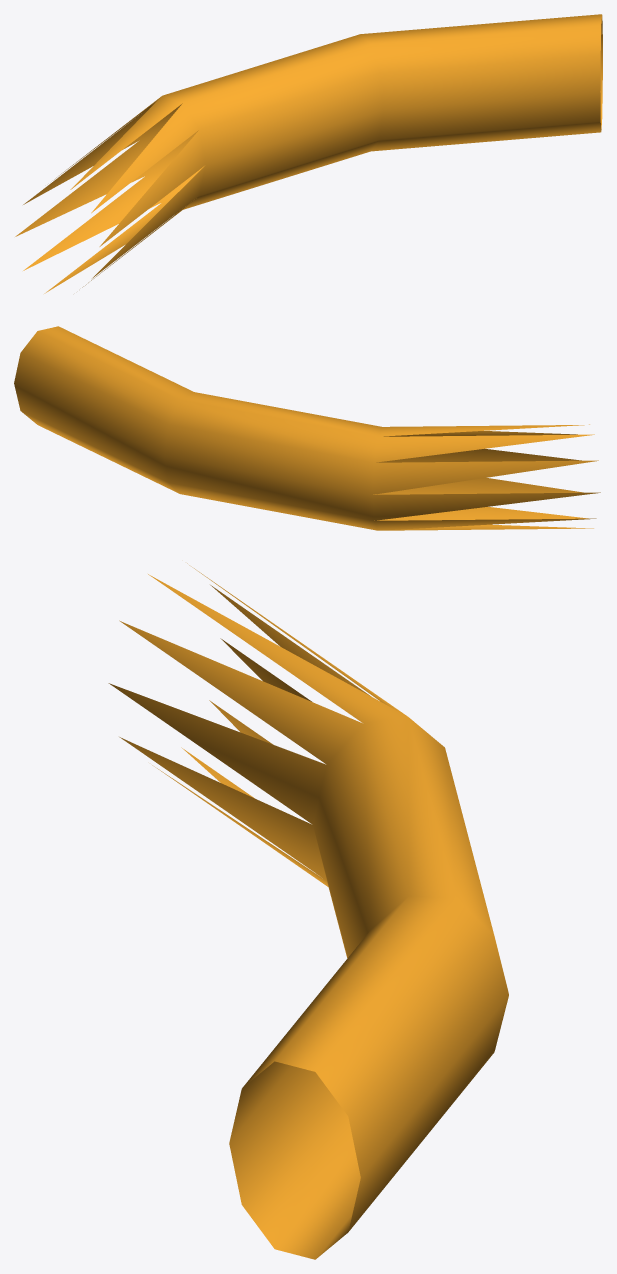
Rendered from TorusChunk_7_4.obj.
The picture shows the model from 3 angles, top to bottom: view 1: azimuth 30°, elevation 25°; view 2: azimuth 150°, elevation 25°; view 3: azimuth 270°, elevation 25°; orthographic projection. The views are drawn at different scales.
Parts seen in each view (by area): view 1: TorusChunk_7_4; view 2: TorusChunk_7_4; view 3: TorusChunk_7_4.
Boxes of the visible parts, x1=… form: TorusChunk_7_4: x1=15, y1=14, x2=602, y2=293; TorusChunk_7_4: x1=14, y1=326, x2=600, y2=530; TorusChunk_7_4: x1=108, y1=563, x2=508, y2=1259.
Size of the model in its own units: 1.67 by 0.27 by 0.5227.
